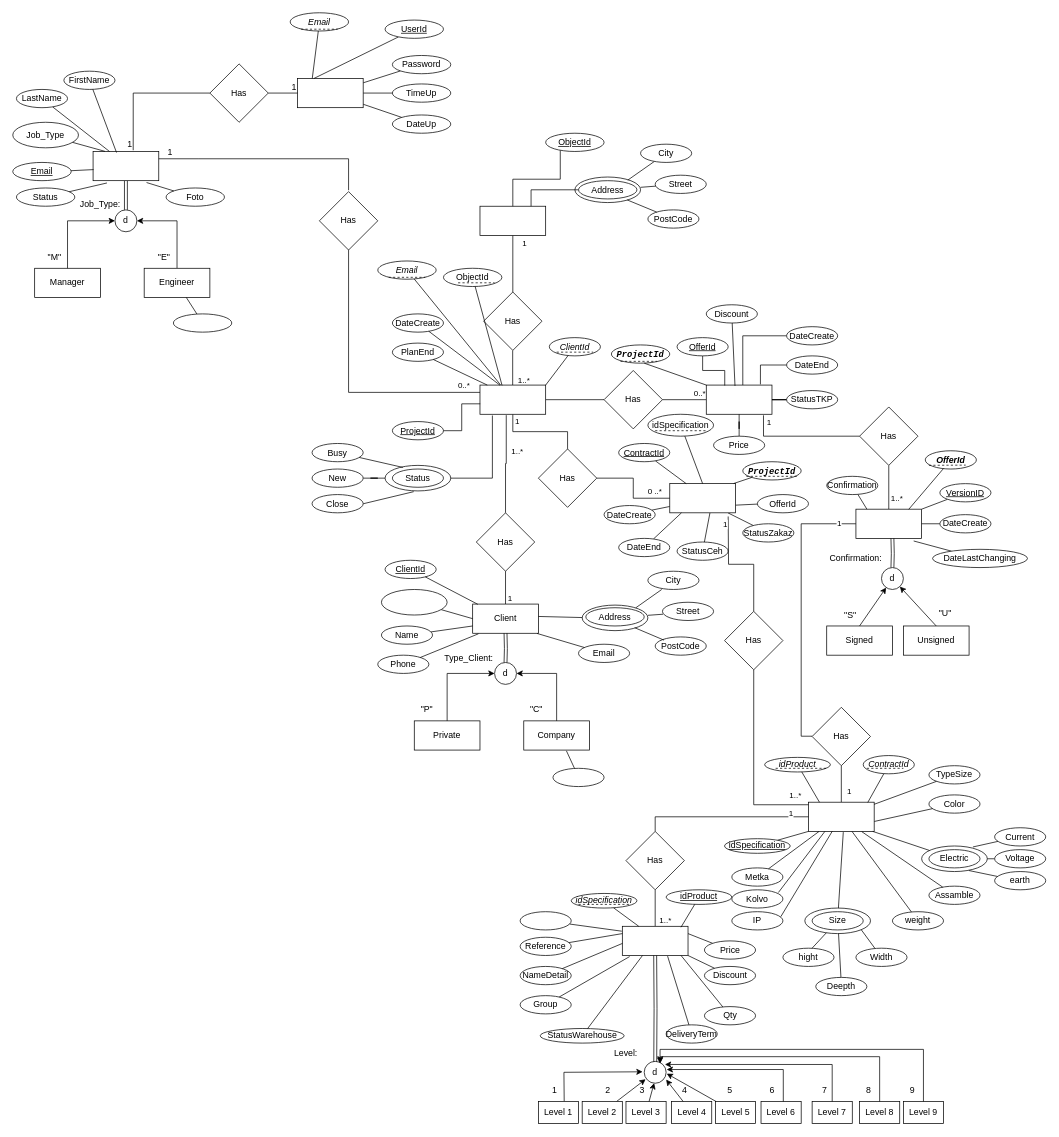
Image size: 1059x1137. Some labels were removed from this diagram. The box of each missing label's shape, as (x1, y1, x2, y2) in pixels:
Building: (479, 205, 546, 235)
Contract: (669, 483, 735, 513)
Credential: (297, 78, 363, 108)
INN: (552, 768, 604, 787)
Item: (622, 926, 688, 955)
Level: (519, 911, 571, 930)
Offer: (706, 384, 772, 414)
Project: (479, 384, 546, 414)
SecondName: (173, 313, 232, 332)
Specification: (808, 801, 874, 831)
Type_Client: (381, 589, 447, 615)
User: (92, 151, 159, 181)
Version: (855, 508, 922, 538)
